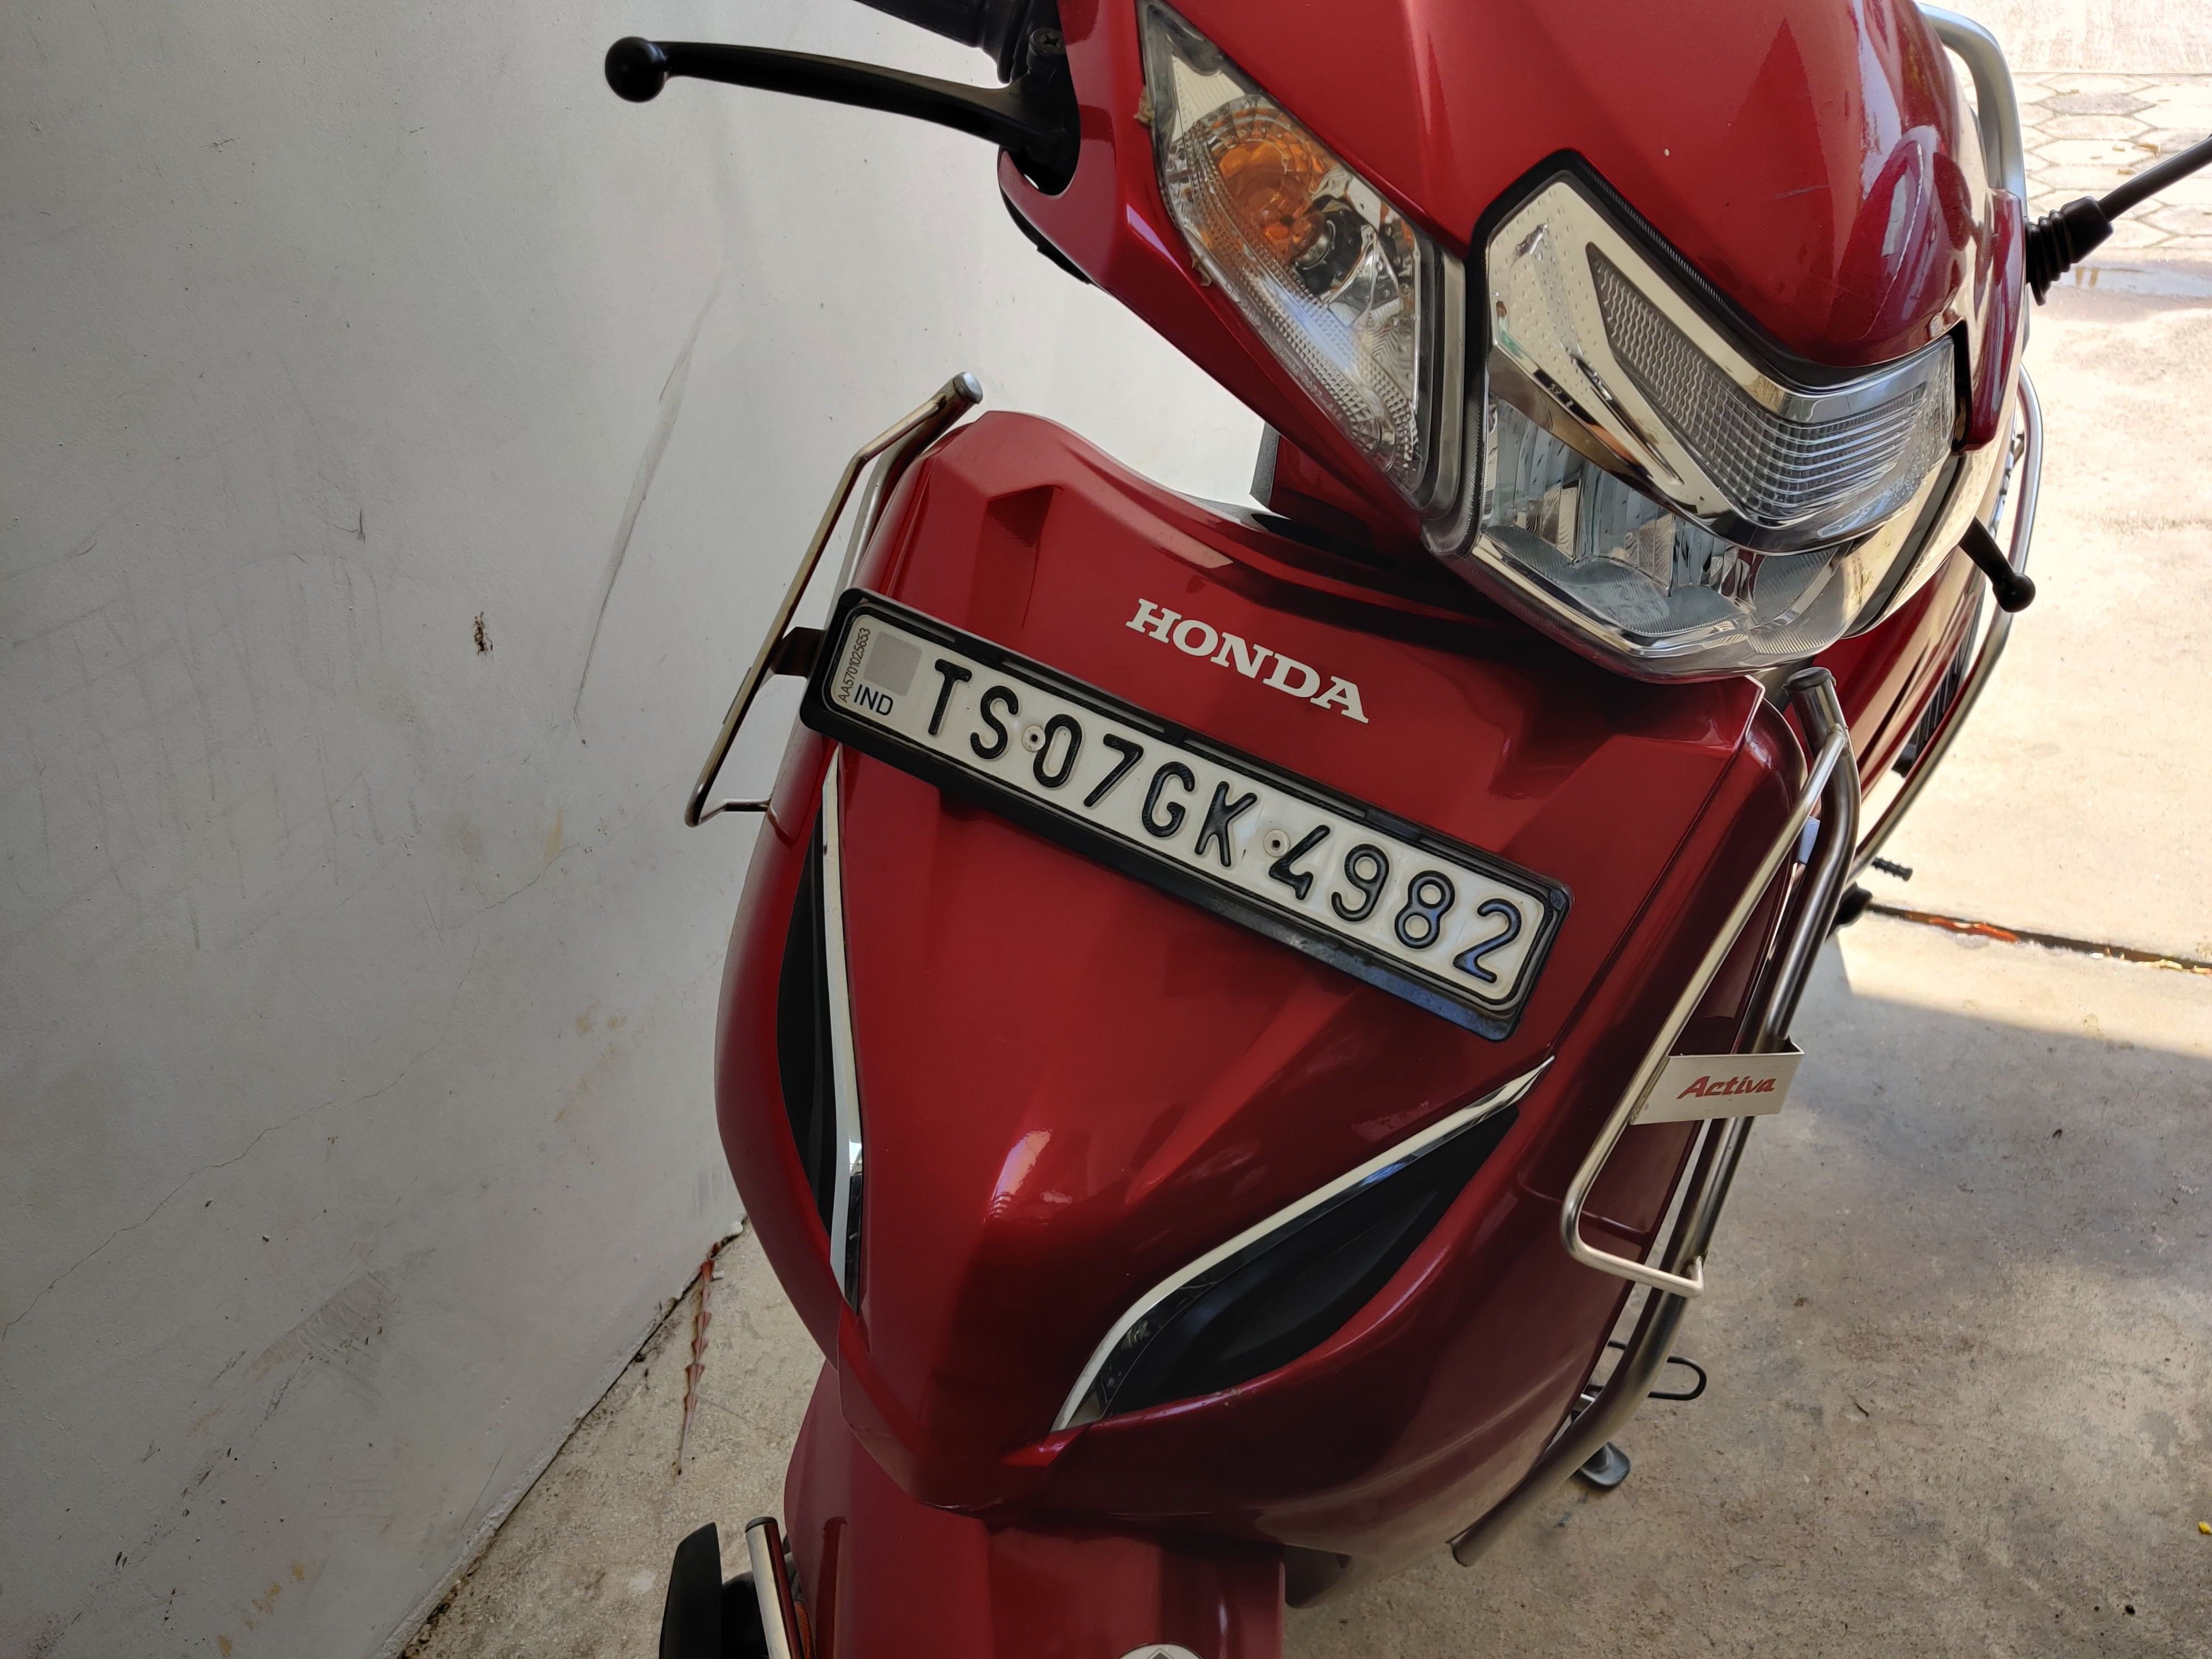plate: (784, 568, 1622, 1099)
